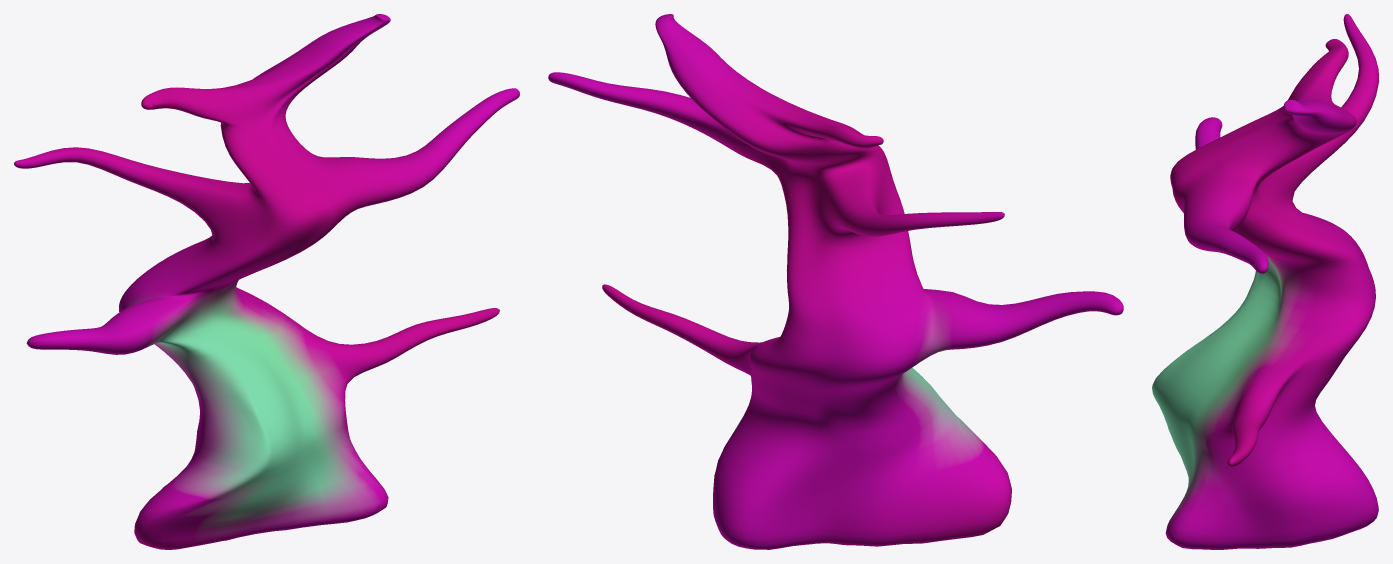
The model's file is ancient-v01-level10.glb.
The picture shows the model from 3 angles, left to right: view 1: azimuth 30°, elevation 25°; view 2: azimuth 150°, elevation 25°; view 3: azimuth 270°, elevation 25°; orthographic projection. The views are drawn at different scales.
Parts seen in each view (by area): view 1: Continuous aged trunk and primary branches; view 2: Continuous aged trunk and primary branches; view 3: Continuous aged trunk and primary branches.
Boxes of the visible parts, box(x1,y1,x2,y2) form: Continuous aged trunk and primary branches: box(14, 14, 519, 549); Continuous aged trunk and primary branches: box(548, 14, 1123, 549); Continuous aged trunk and primary branches: box(1152, 14, 1378, 549).
Bounding box in the file's own units: 1.94 × 1.65 × 0.6969.
